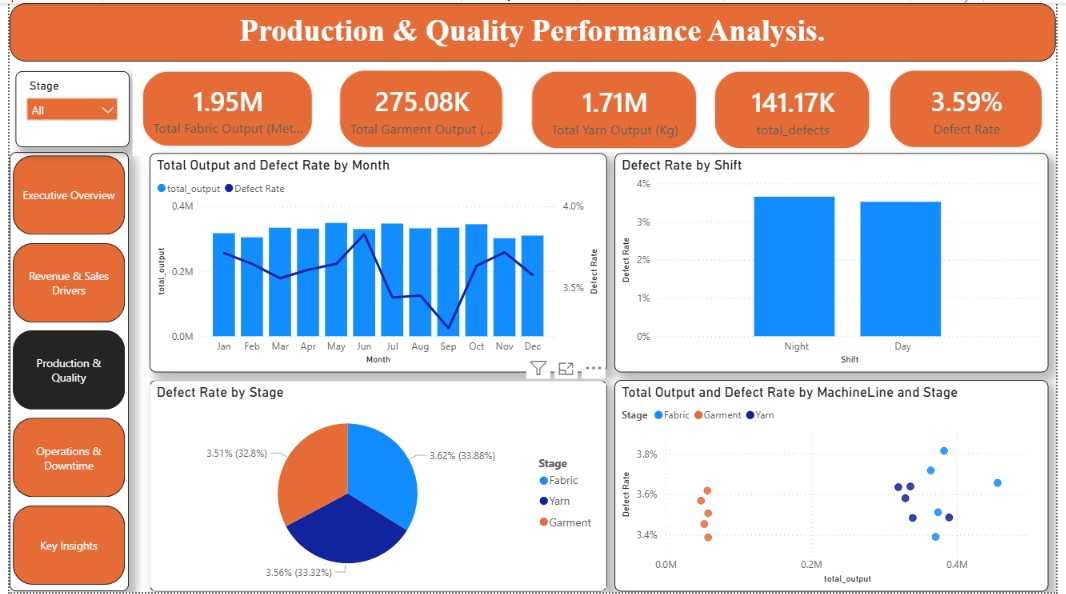

What the dashboard file says about the page in this screenshot:
{"tool":"powerbi","page":{"name":"Production & Quality","canvas":[1280,720],"ordinal":2},"visuals":[{"type":"pageNavigator","box":[0,182.3,145.8,537.1],"z":0},{"type":"slicer","fields":{"Values":["Dim_Products.Stage"]},"box":[7,82.7,138.8,92.6],"z":1000},{"type":"cardVisual","fields":{"Data":["measure.defect_rate"]},"box":[1058.4,64.5,221.6,129],"z":2000},{"type":"cardVisual","fields":{"Data":["measure.total_defects"]},"box":[845.6,65.9,224.4,129],"z":3000},{"type":"cardVisual","fields":{"Data":["measure.Total Garment Output (Pieces)"]},"box":[387,64.5,234.2,129],"z":4000},{"type":"cardVisual","fields":{"Data":["measure.Total Fabric Output (Meters)"]},"box":[145.8,65.9,242.6,126.2],"z":5000},{"type":"cardVisual","fields":{"Data":["measure.Total Yarn Output (Kg)"]},"box":[621.2,65.9,237,129],"z":6000},{"type":"lineClusteredColumnComboChart","title":"Total Output and Defect Rate by Month","fields":{"Y":["measure.total_output"],"Y2":["measure.defect_rate"],"Category":["Date.Month"]},"box":[171.2,183.4,558.8,267.8],"z":7000},{"type":"pieChart","fields":{"Category":["Dim_Products.Stage"],"Y":["measure.Defect Rate"]},"box":[171.2,461,558.8,258],"z":8000},{"type":"clusteredColumnChart","fields":{"Category":["Fact_Production.Shift"],"Y":["measure.defect_rate"]},"box":[739.8,183.4,530.7,267.8],"z":9000},{"type":"scatterChart","title":"Total Output and Defect Rate by MachineLine and Stage","fields":{"X":["measure.total_output"],"Y":["measure.defect_rate"],"Series":["Dim_Products.Stage"],"Category":["Fact_Production.MachineLine"]},"box":[739.8,461,530.7,258],"z":10000},{"type":"textbox","box":[0,0,1278.9,71.5],"z":11000}]}

Visuals, with their boxes in screenshot pixels (x1, y1, x2, y2), scaled from the page's 1280x720 canvas onto the 1066x594 screenshot:
pageNavigator: (x1=0, y1=150, x2=121, y2=593)
slicer - Dim_Products.Stage: (x1=6, y1=68, x2=121, y2=145)
cardVisual - measure.defect_rate: (x1=881, y1=53, x2=1065, y2=160)
cardVisual - measure.total_defects: (x1=704, y1=54, x2=891, y2=161)
cardVisual - measure.Total Garment Output (Pieces): (x1=322, y1=53, x2=517, y2=160)
cardVisual - measure.Total Fabric Output (Meters): (x1=121, y1=54, x2=323, y2=158)
cardVisual - measure.Total Yarn Output (Kg): (x1=517, y1=54, x2=715, y2=161)
"Total Output and Defect Rate by Month" lineClusteredColumnComboChart: (x1=143, y1=151, x2=608, y2=372)
pieChart - Dim_Products.Stage x measure.Defect Rate: (x1=143, y1=380, x2=608, y2=593)
clusteredColumnChart - Fact_Production.Shift x measure.defect_rate: (x1=616, y1=151, x2=1058, y2=372)
"Total Output and Defect Rate by MachineLine and Stage" scatterChart: (x1=616, y1=380, x2=1058, y2=593)
textbox: (x1=0, y1=0, x2=1065, y2=59)
